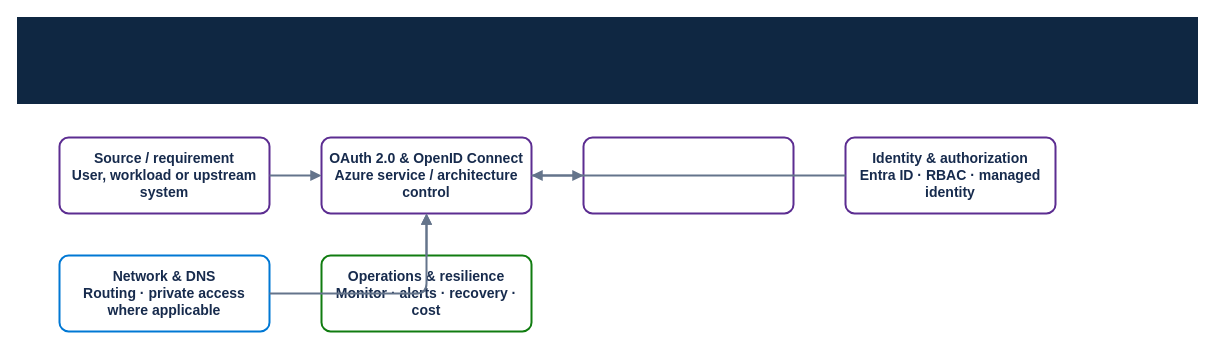
Some shapes in this 1215 by 350 pixel diagram are drawn without their labels. The centre of each missing label's shape, as x and y in pixels:
OAuth 2.0 & OpenID Connect: the point at 607,60
Workload / consumer Application, data or operational outcome: the point at 688,175
